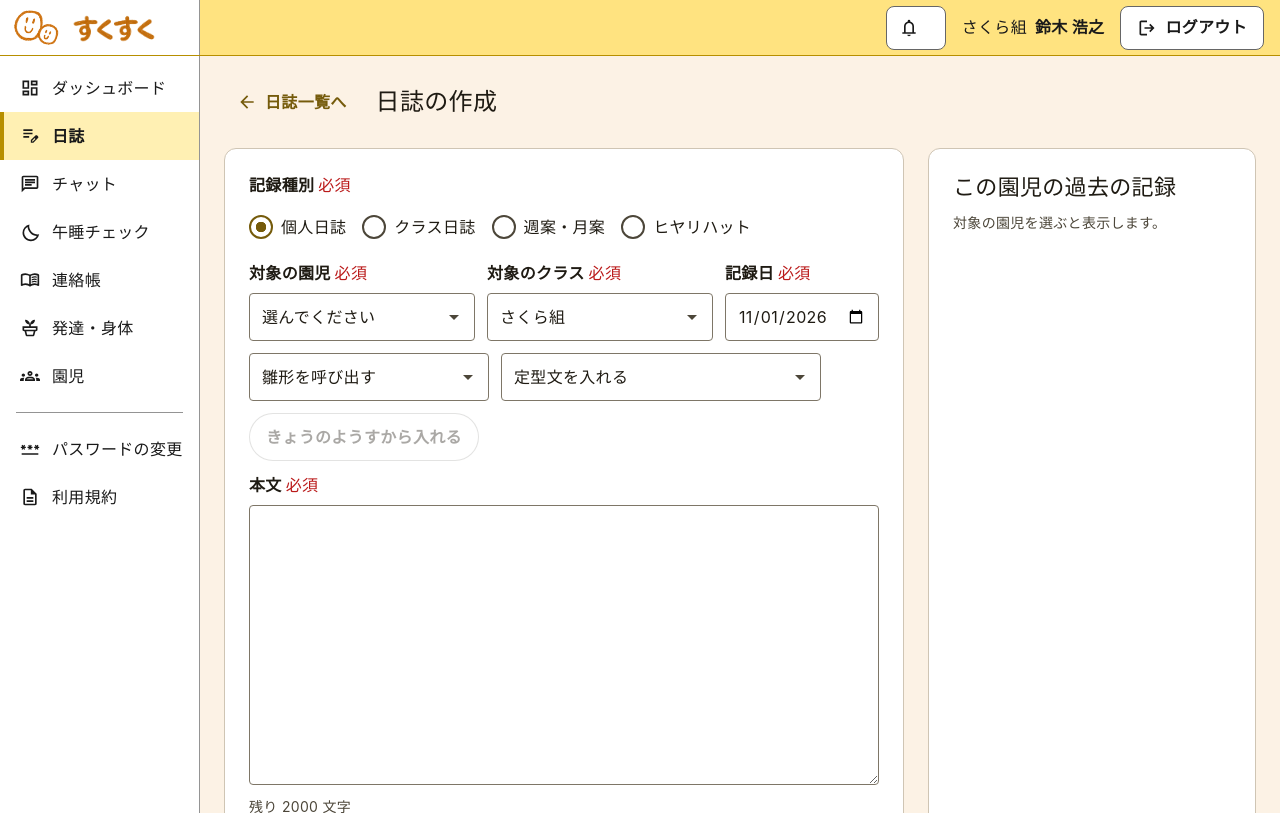
Test: 日誌作成・編集画面のヒヤリハットの欄 › ヒヤリハットを選ぶと、本文・雛形・定型文の代わりに発生日時・場所・状況・とった対応・保護者へ伝えたこと・今後の対策が出る
This screenshot has width=1280, height=813.
Expected: the text box labelled "本文" is shown, [249,505,879,785]
Click the radio button labelled "ヒヤリハット" at (633, 227), box [621,215,645,239]
(page scrolled)
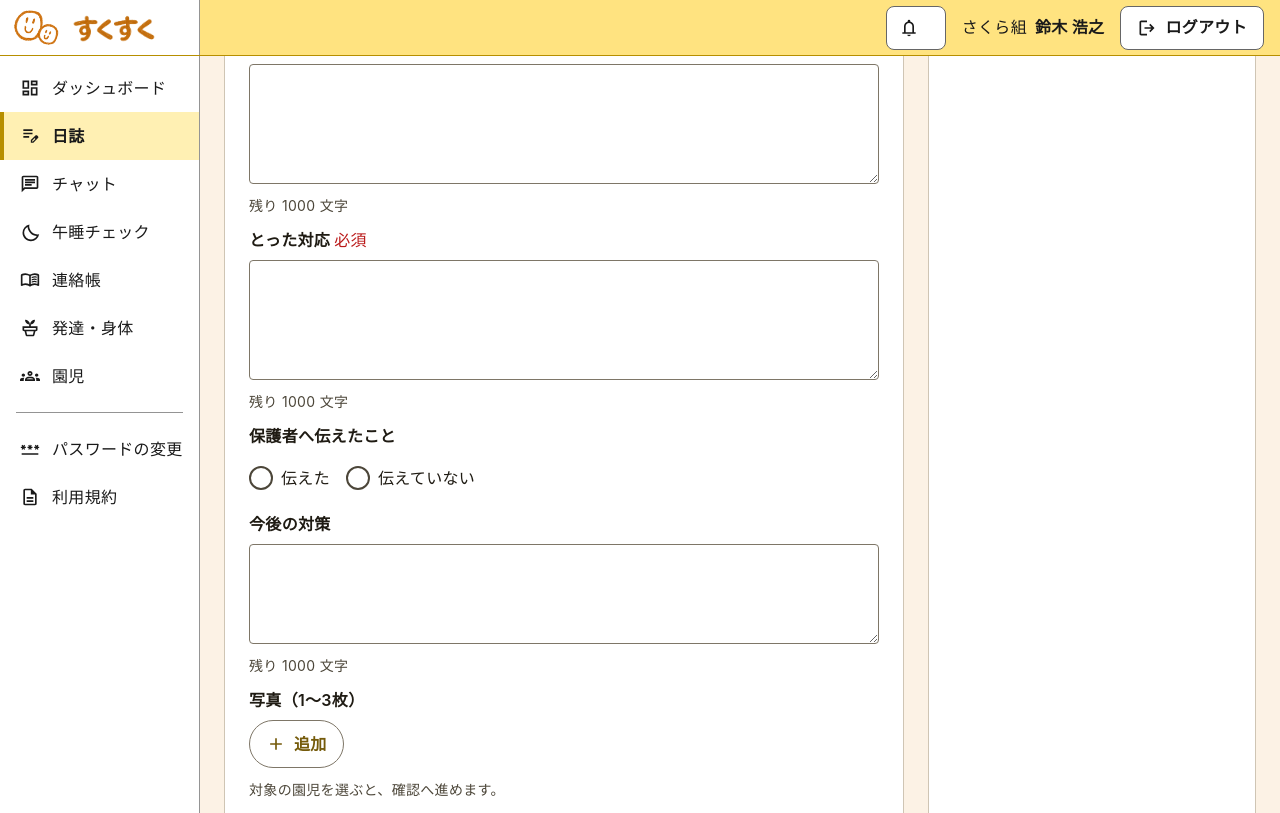
Expected: the dropdown labelled "雛形を呼び出す" is gone
Expected: the dropdown labelled "定型文を入れる" is gone
Expected: the text box labelled "今後の対策" is shown, [249,544,879,644]
Click the radio button labelled "伝えた" at (261, 478), box [249,466,273,490]
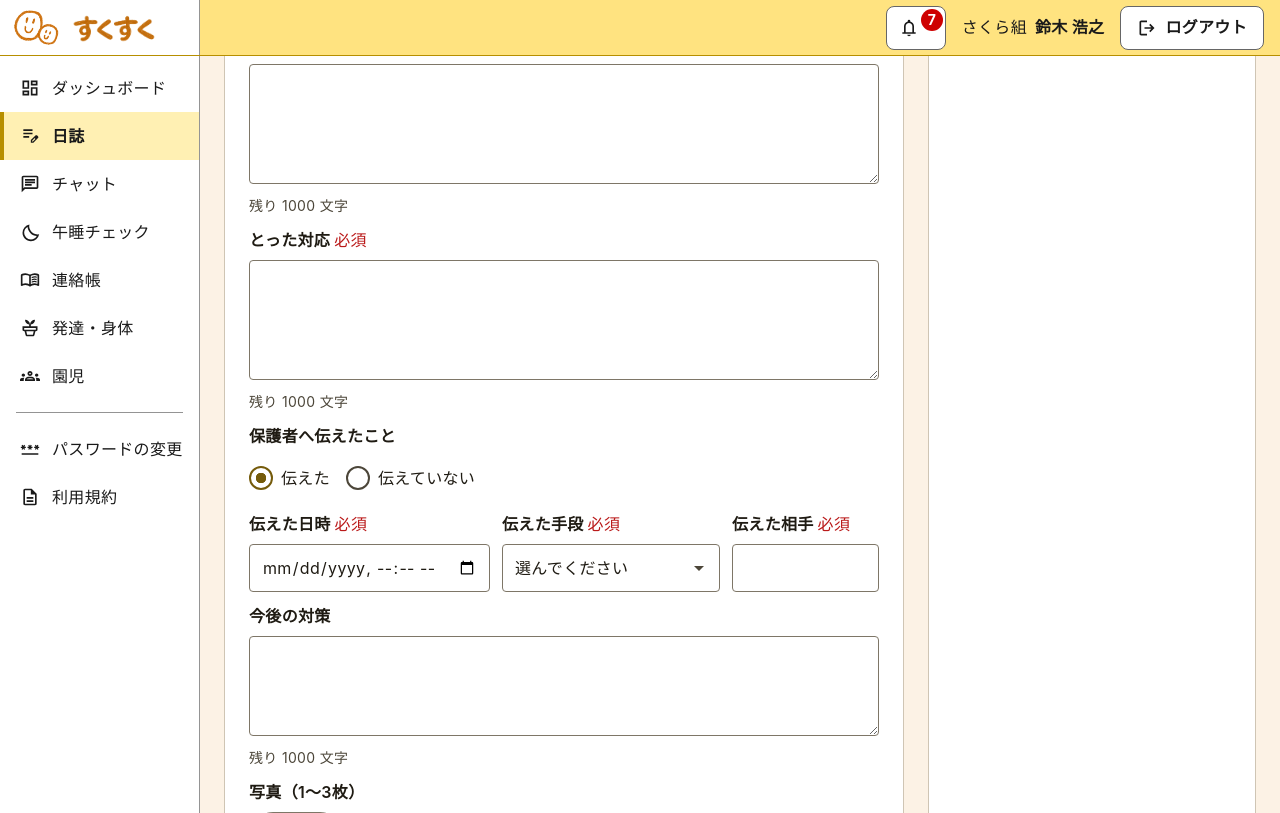
Expected: the dropdown labelled "伝えた手段" is shown, [502,544,720,592]
Expected: the field labelled "伝えた相手" is shown, [732,544,879,592]
